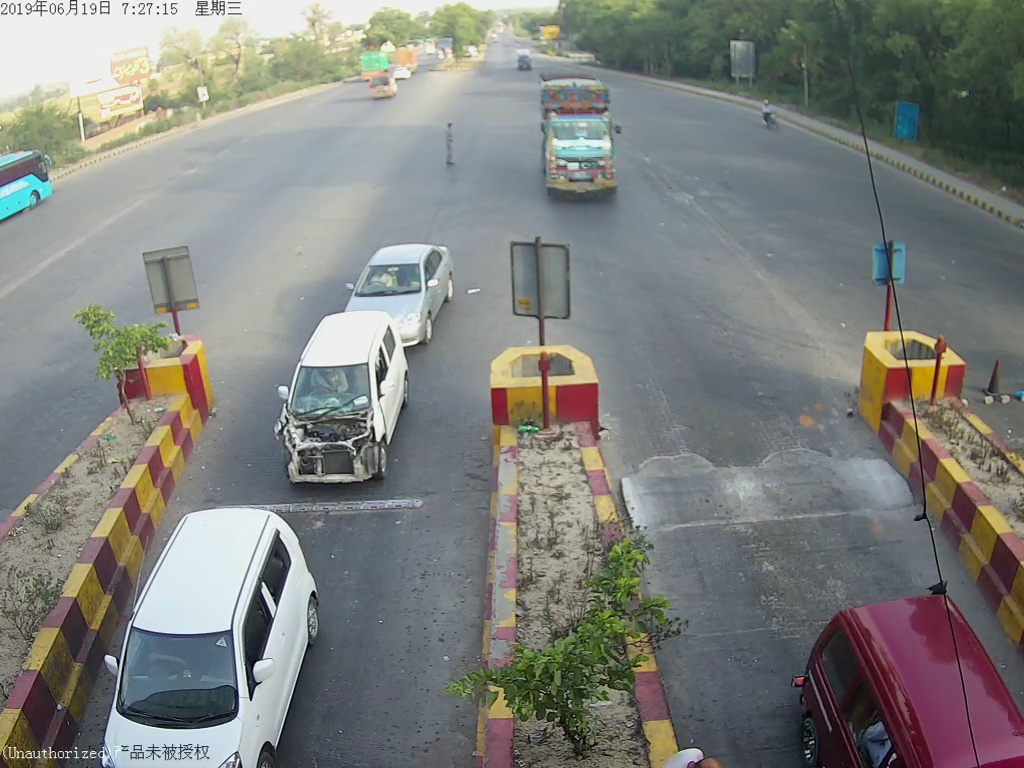Cat-1: (110, 510, 331, 738), (279, 316, 405, 490), (348, 245, 459, 314)
Cat-4: (540, 81, 619, 202)
